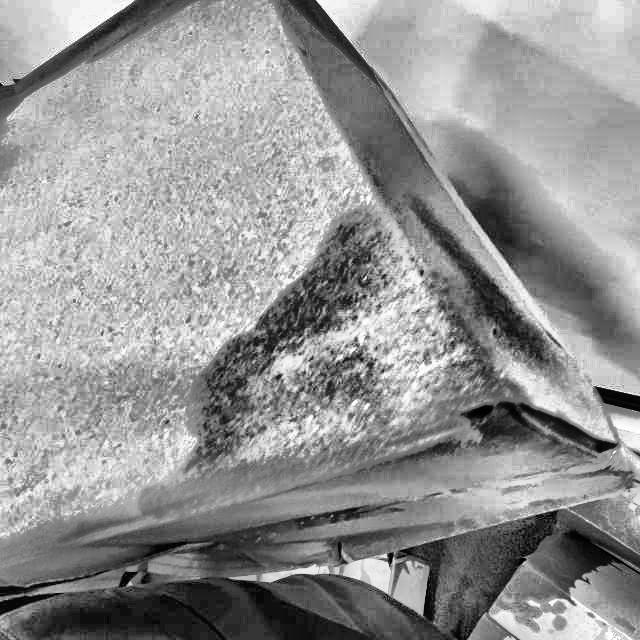box: (0, 0, 640, 554)
wet: (178, 204, 547, 520)
